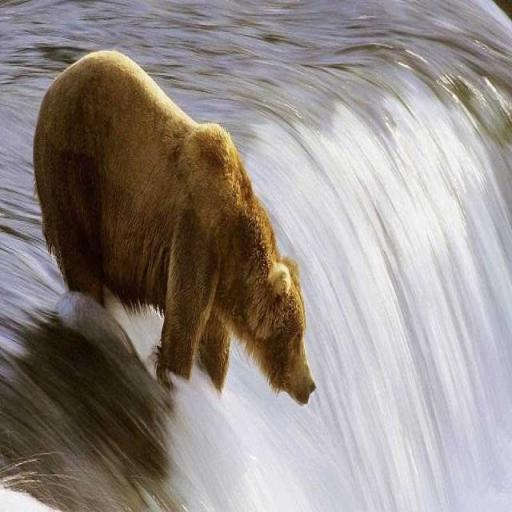Bear: (32, 46, 317, 408)
